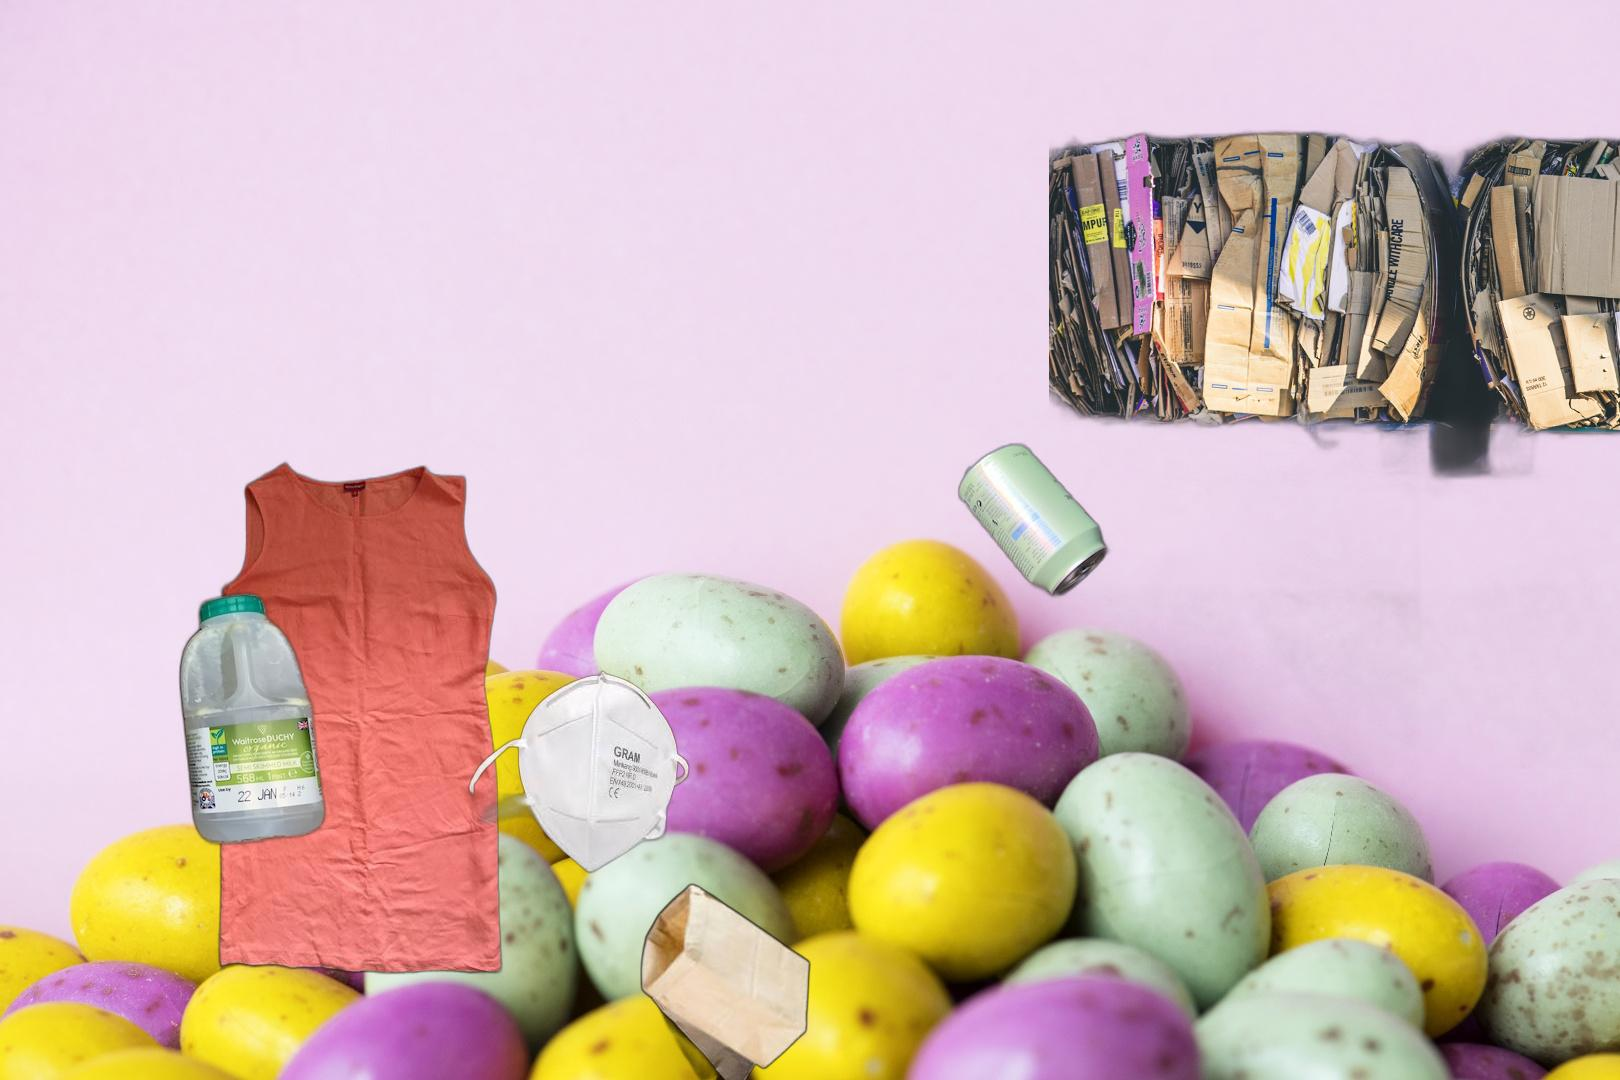clothes: (215, 458, 505, 979)
metal-cans: (955, 424, 1421, 815)
paper-bag: (638, 882, 812, 1080)
plastic-bottles: (176, 588, 330, 851)
shoes: (1154, 256, 1336, 407)
trash: (466, 668, 691, 886)
trashbox-cardboard: (1049, 115, 1620, 769)
